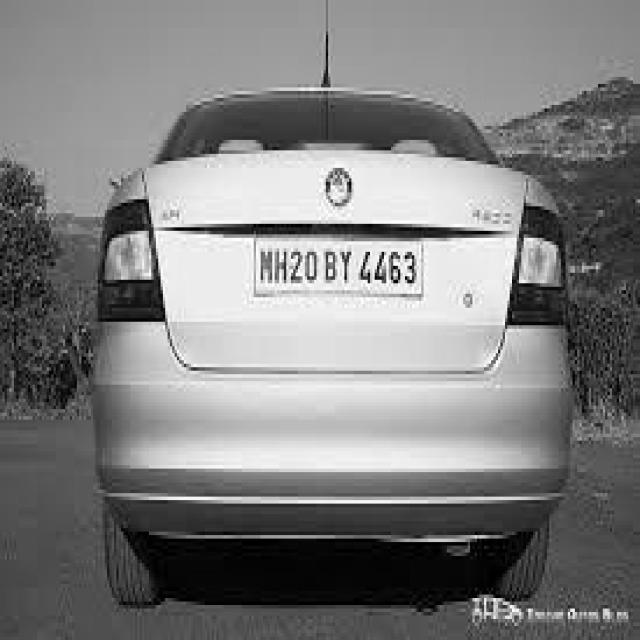car: (93, 80, 575, 619)
license-plate: (256, 235, 426, 298)
